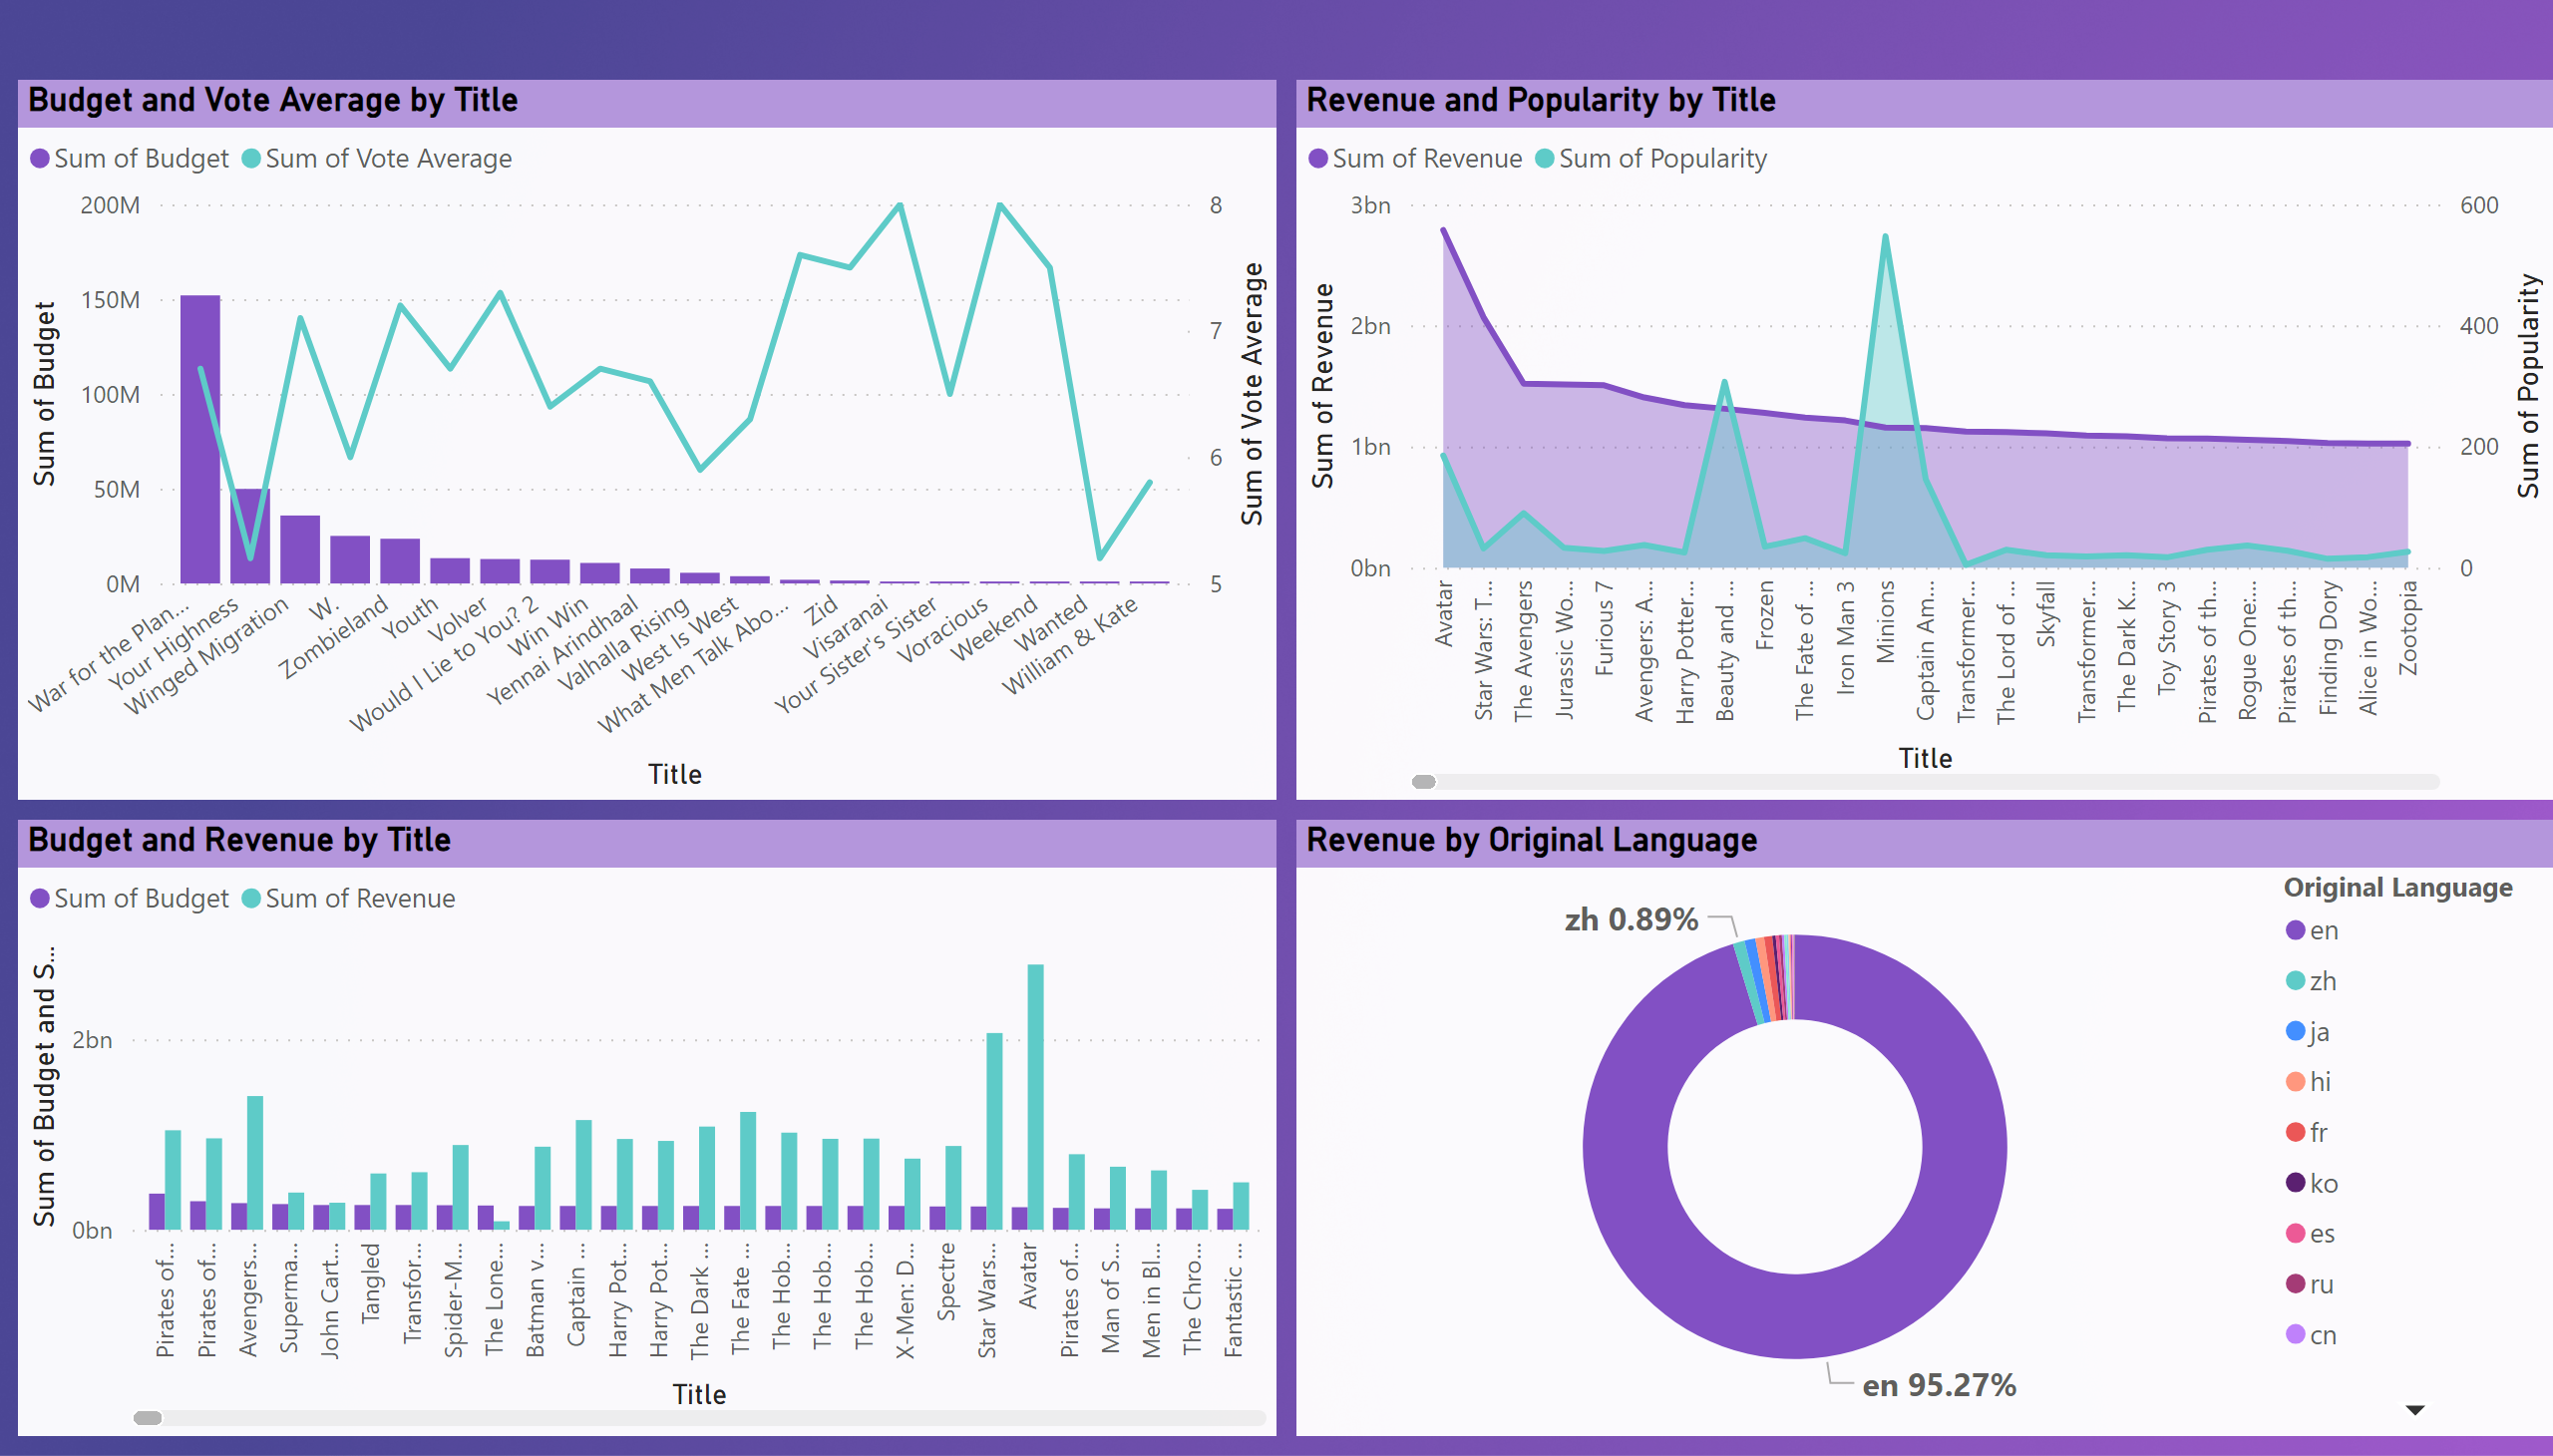

Layout of this report page (visuals, bound fields, positions):
{"tool":"powerbi","page":{"name":"Page 4","canvas":[1280,720],"ordinal":0},"visuals":[{"type":"lineClusteredColumnComboChart","title":"Budget and Vote Average by Title","fields":{"Category":["movie-database.Title"],"Y":["movie-database.Budget"],"Y2":["movie-database.Vote Average"]},"box":[9.4,39.7,631.2,360.9],"z":1},{"type":"lineClusteredColumnComboChart","title":"Budget and Revenue by Title","fields":{"Category":["movie-database.Title"],"Y":["movie-database.Budget","movie-database.Revenue"]},"box":[9,411,631,309],"z":2},{"type":"areaChart","title":"Revenue and Popularity by Title","fields":{"Category":["movie-database.Title"],"Y":["movie-database.Revenue","movie-database.Popularity"]},"box":[650,40,630,361],"z":3},{"type":"donutChart","title":"Revenue by Original Language","fields":{"Category":["movie-database.Original Language"],"Y":["movie-database.Revenue"]},"box":[650,411,630,309],"z":4}]}

Visuals, with their boxes in screenshot pixels (x1, y1, x2, y2), scaled from the page's 1280x720 canvas onto the 2553x1456 screenshot:
"Budget and Vote Average by Title" lineClusteredColumnComboChart: (x1=19, y1=81, x2=1277, y2=810)
"Budget and Revenue by Title" lineClusteredColumnComboChart: (x1=18, y1=831, x2=1276, y2=1455)
"Revenue and Popularity by Title" areaChart: (x1=1296, y1=81, x2=2552, y2=811)
"Revenue by Original Language" donutChart: (x1=1296, y1=831, x2=2552, y2=1455)
